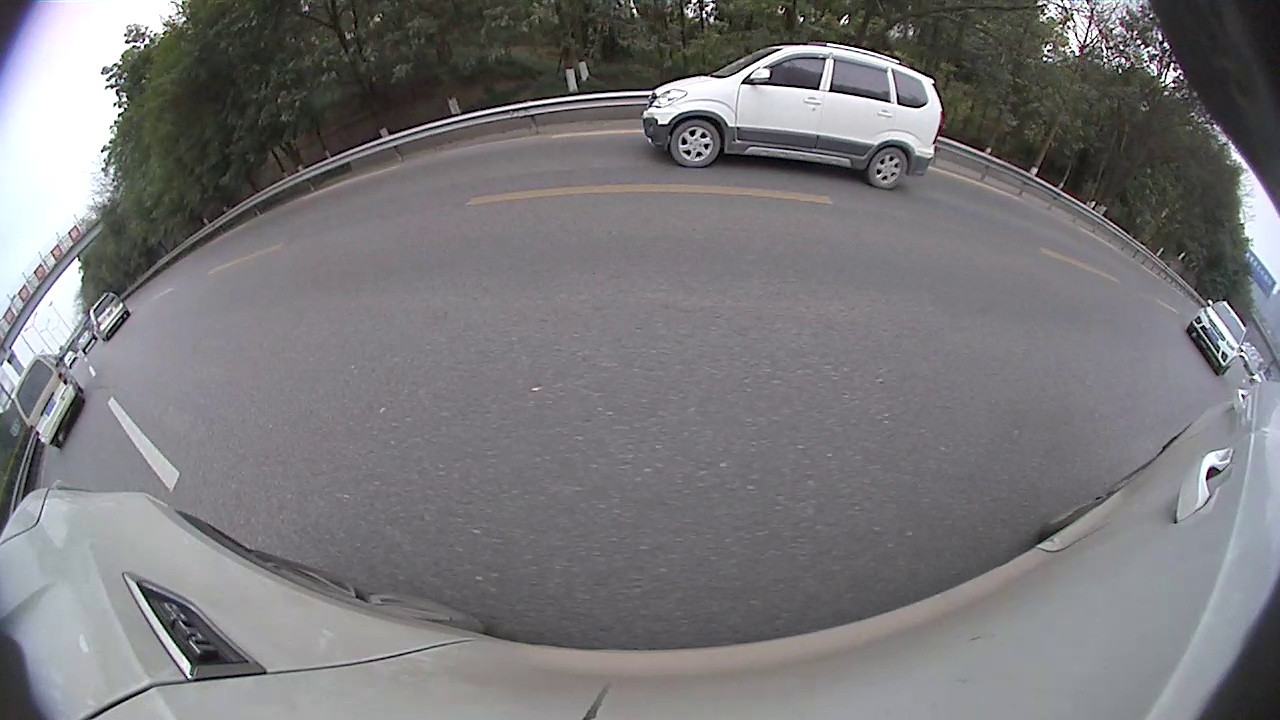car: (640, 40, 945, 191), (12, 354, 87, 451), (1185, 296, 1249, 378), (88, 290, 131, 343)
front: (672, 120, 718, 167)
rear: (868, 150, 909, 190)
